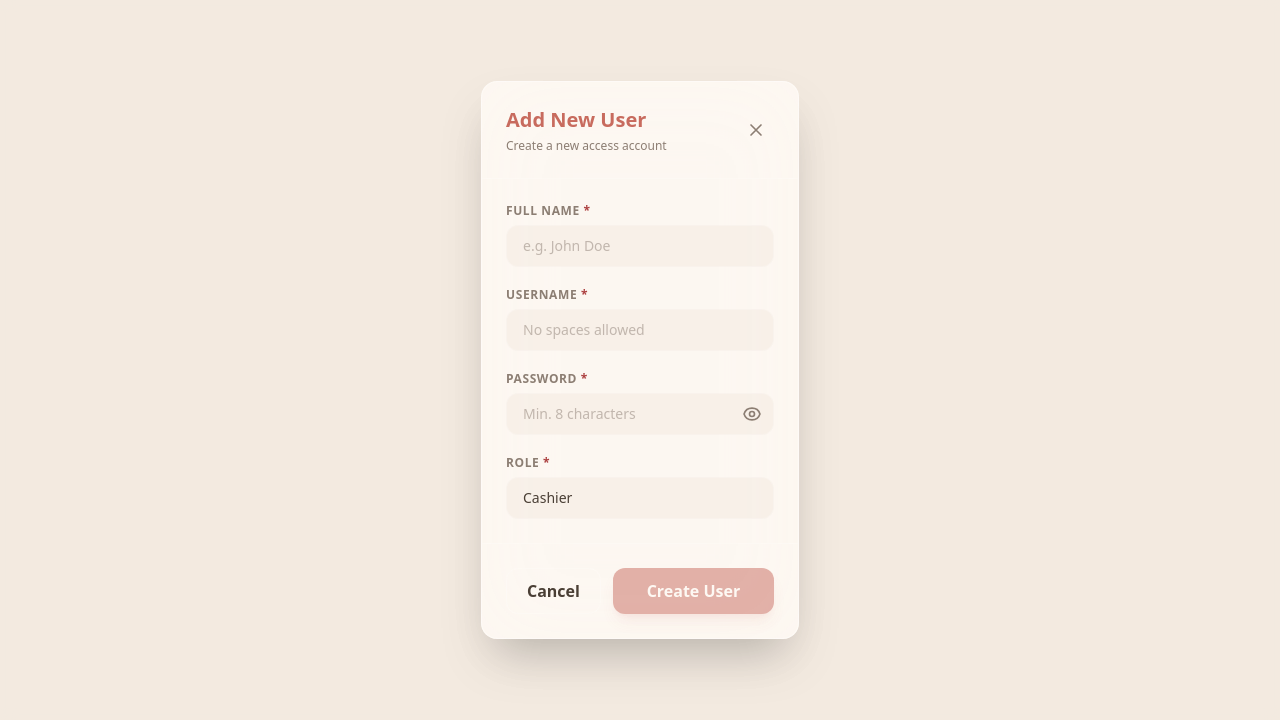
Test case: UserFormModal.vue (Complex Form & Logic Testing) › [Validation] Menghapus spasi secara otomatis pada input Username
The width and height of the screenshot is (1280, 720).
Note: Simulasi user mengetik dengan spasi
Type "john doe 123" into the field with placeholder "No spaces allowed". click: (640, 330)
box: [506,309,774,351]
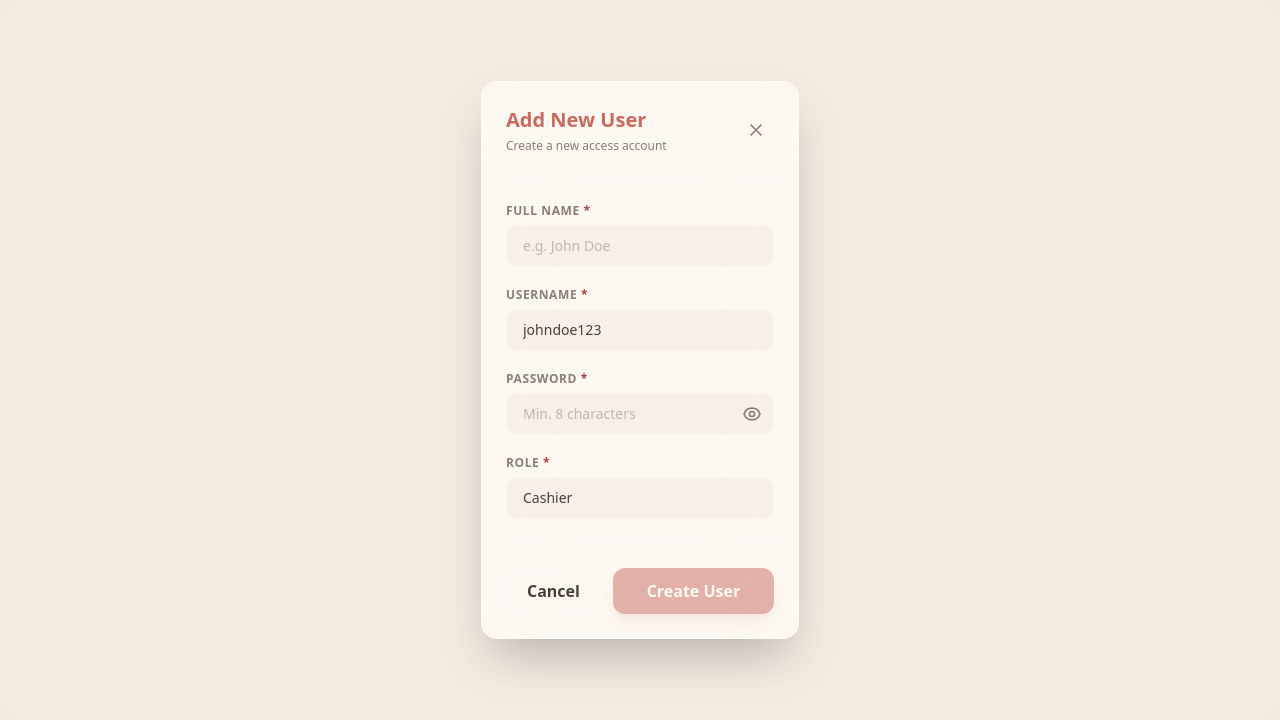
Expected: the 2nd field holds "johndoe123", [506,309,774,351]
